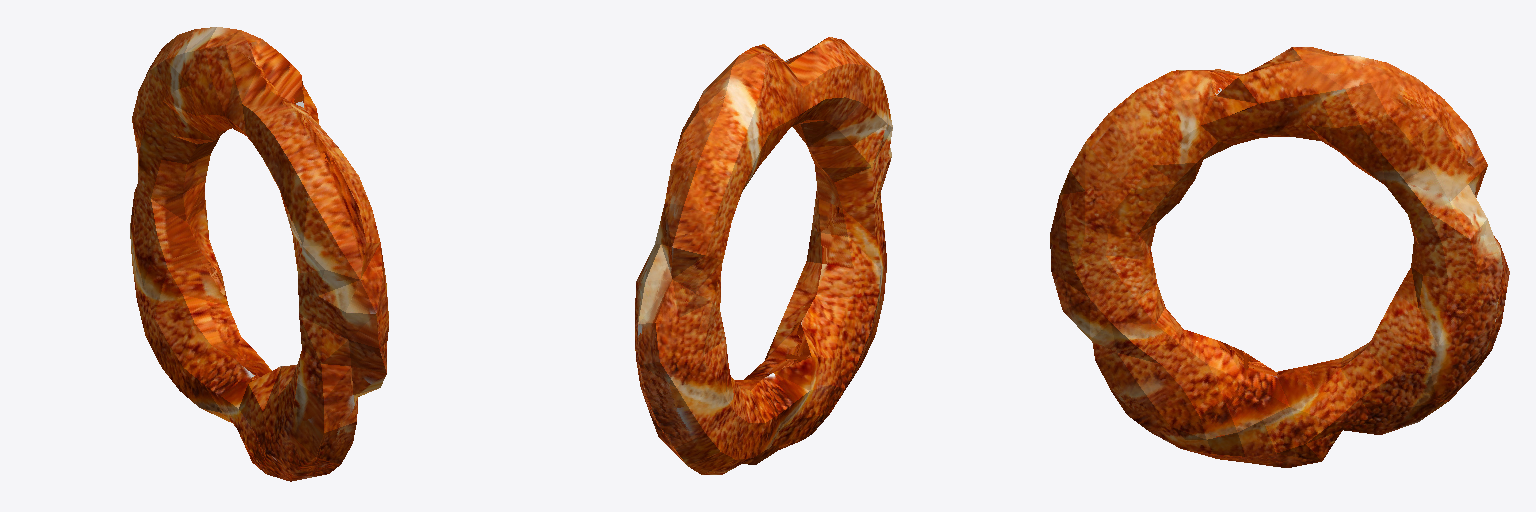
The picture shows the model from 3 angles: view 1: azimuth 30°, elevation 25°; view 2: azimuth 150°, elevation 25°; view 3: azimuth 270°, elevation 25°; orthographic projection.
Parts seen in each view (by area): view 1: Torus; view 2: Torus; view 3: Torus.
Boxes of the visible parts, box(x1,y1,x2,y2) form: Torus: box(130, 27, 388, 481); Torus: box(635, 37, 892, 474); Torus: box(1050, 47, 1509, 467).
Size of the model in its own units: 0.4817 by 2.59 by 2.59.
Materials: 1 (1 with a texture image).